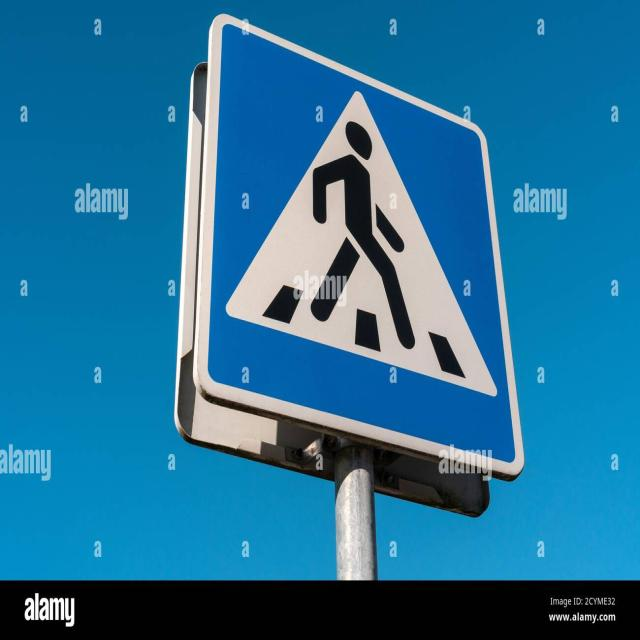Pedestrian crosswalk: (193, 11, 522, 478)
